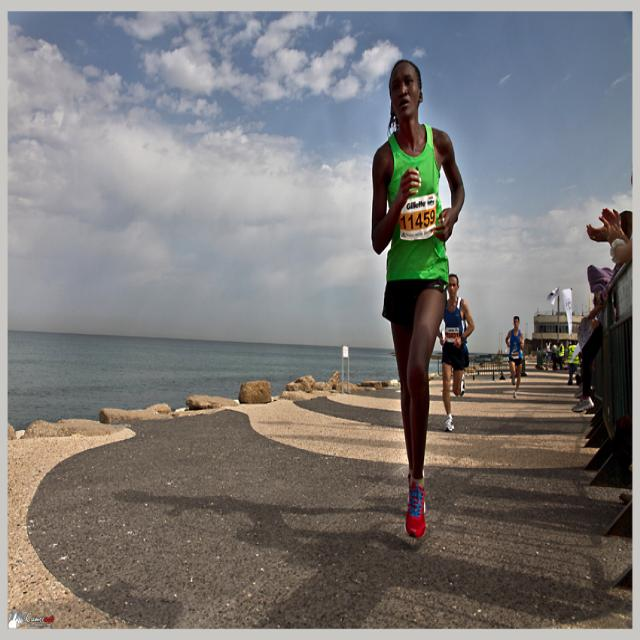Bib: (404, 213, 438, 233)
